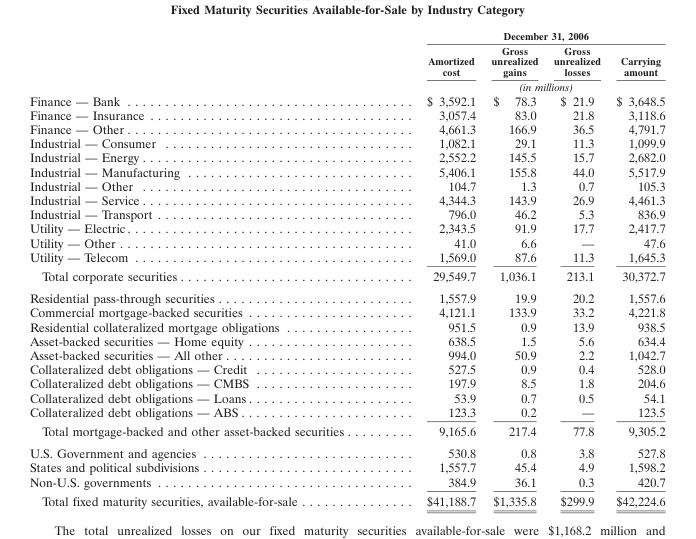table: (28, 28, 664, 508)
table column: (28, 28, 384, 508), (384, 28, 482, 508), (482, 28, 545, 508), (545, 28, 607, 508), (607, 28, 664, 508)
table column header: (28, 28, 664, 92)
table row: (28, 42, 664, 78), (28, 266, 664, 286), (28, 421, 664, 441), (28, 286, 664, 304), (28, 441, 664, 459), (28, 490, 664, 508), (28, 249, 664, 266), (28, 404, 664, 421), (28, 474, 664, 490), (28, 92, 664, 107), (28, 149, 664, 164), (28, 220, 664, 235), (28, 304, 664, 319), (28, 361, 664, 376), (28, 459, 664, 474), (28, 28, 664, 42), (28, 78, 664, 92), (28, 107, 664, 121), (28, 121, 664, 135), (28, 135, 664, 149), (28, 164, 664, 178), (28, 178, 664, 192), (28, 192, 664, 206), (28, 206, 664, 220), (28, 235, 664, 249), (28, 319, 664, 333), (28, 333, 664, 347), (28, 347, 664, 361), (28, 376, 664, 390), (28, 390, 664, 404)
table spanning cell: (384, 28, 664, 42), (384, 78, 664, 92)
